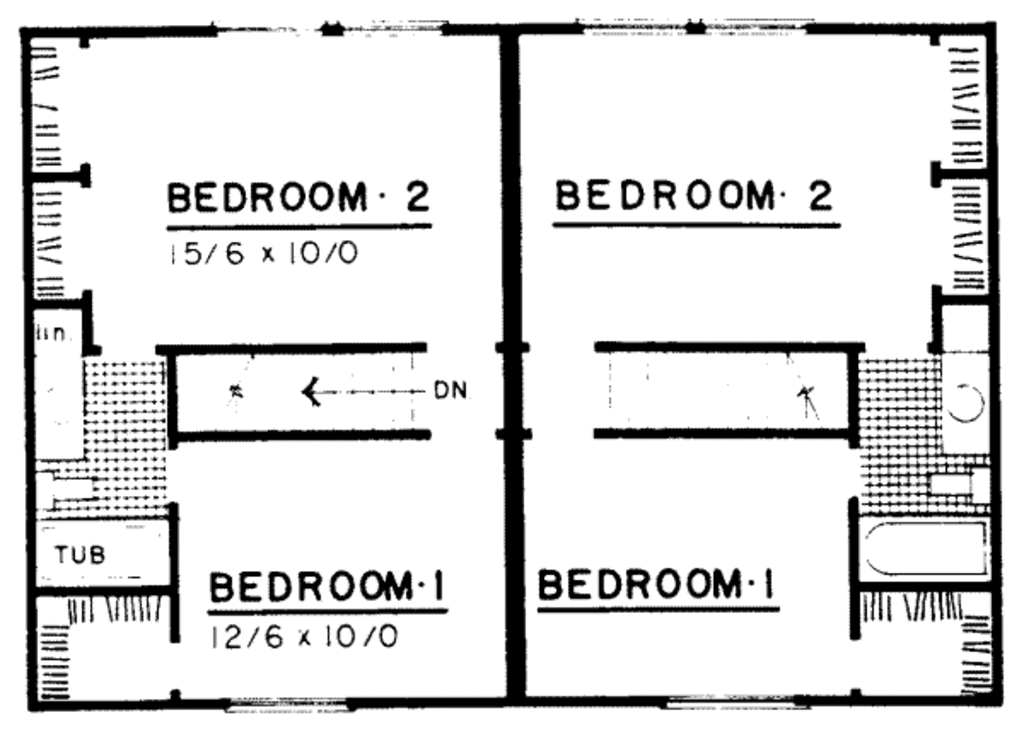large_sink: (36, 468, 97, 525), (924, 471, 988, 506)
small_sink: (938, 354, 987, 458)
stairs: (592, 341, 850, 430), (171, 349, 430, 432)
tub: (857, 512, 992, 584)
window: (574, 14, 808, 38), (223, 695, 348, 716), (663, 695, 787, 711)
